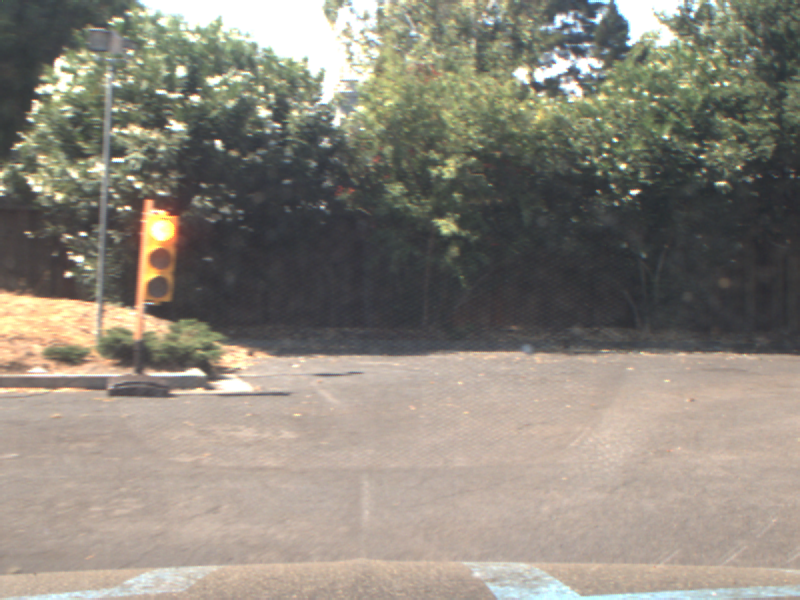red: (136, 202, 176, 303)
